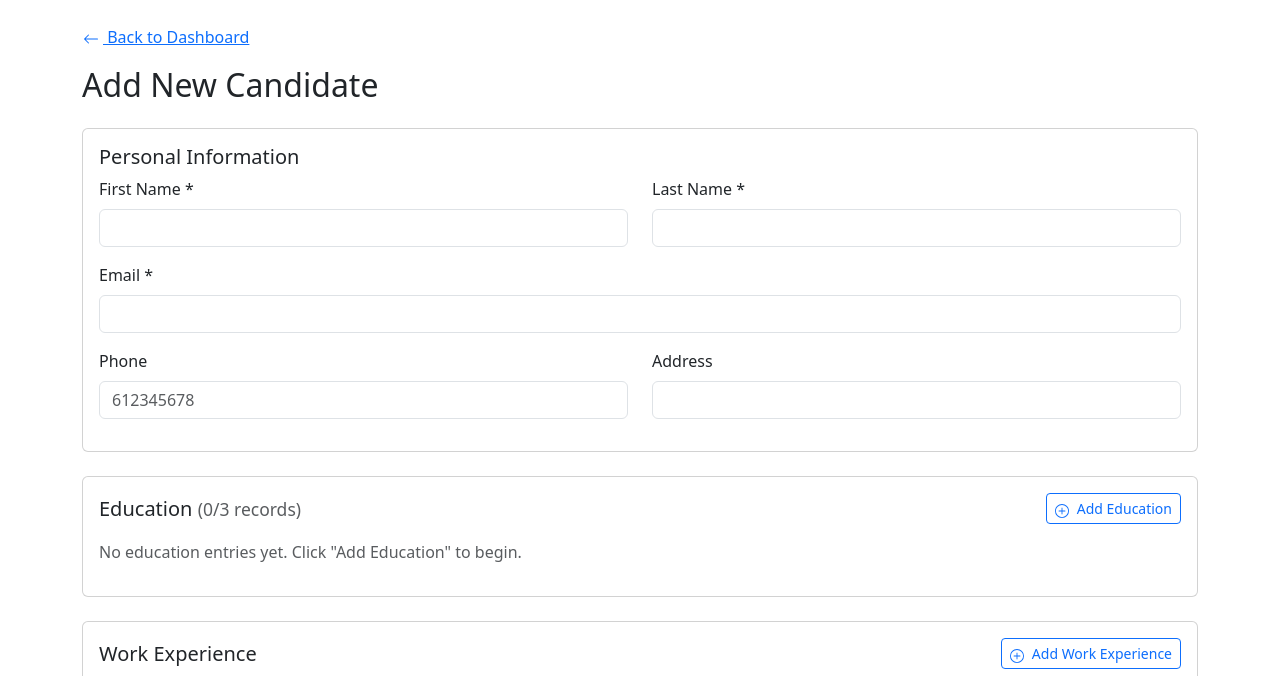
it: Add Candidate Feature › Add Candidate Form - Education Management › should disable Add Education button when 3 entries exist
Click the button with test id "add-education-btn" at (1114, 509), box [1046,493,1181,524]
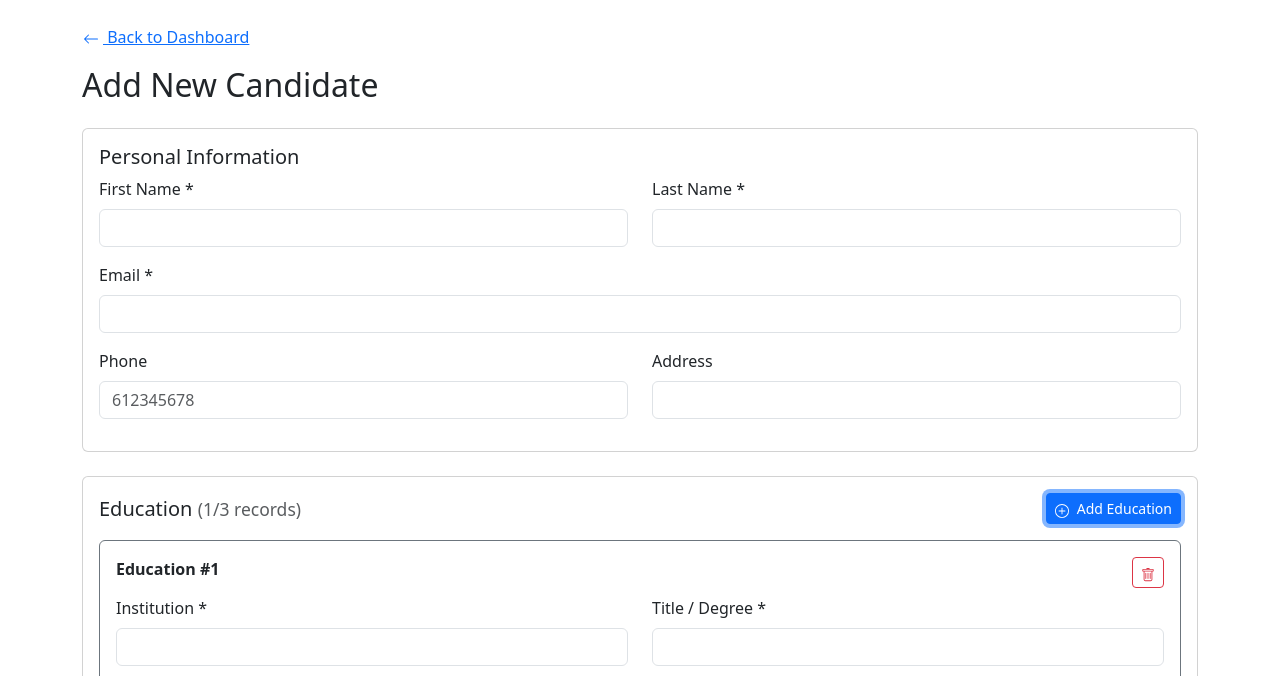
Click the button with test id "add-education-btn" at (1114, 509), box [1046,493,1181,524]
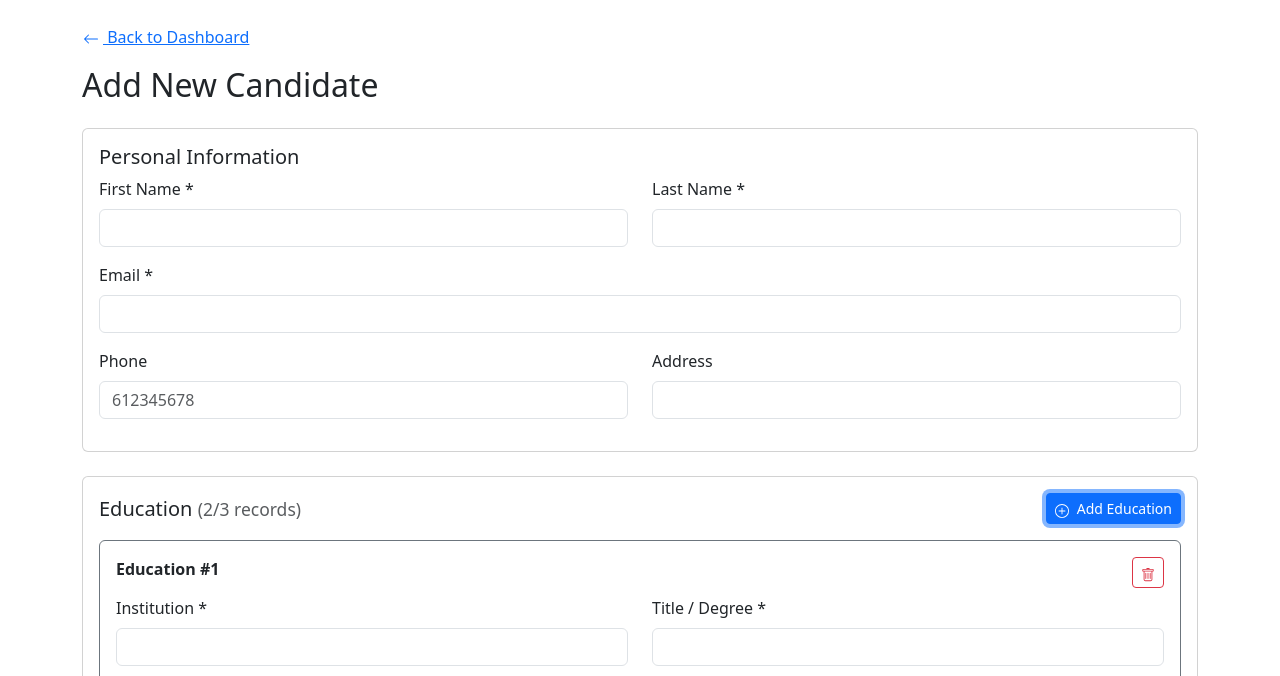
Click the button with test id "add-education-btn" at (1114, 509), box [1046,493,1181,524]
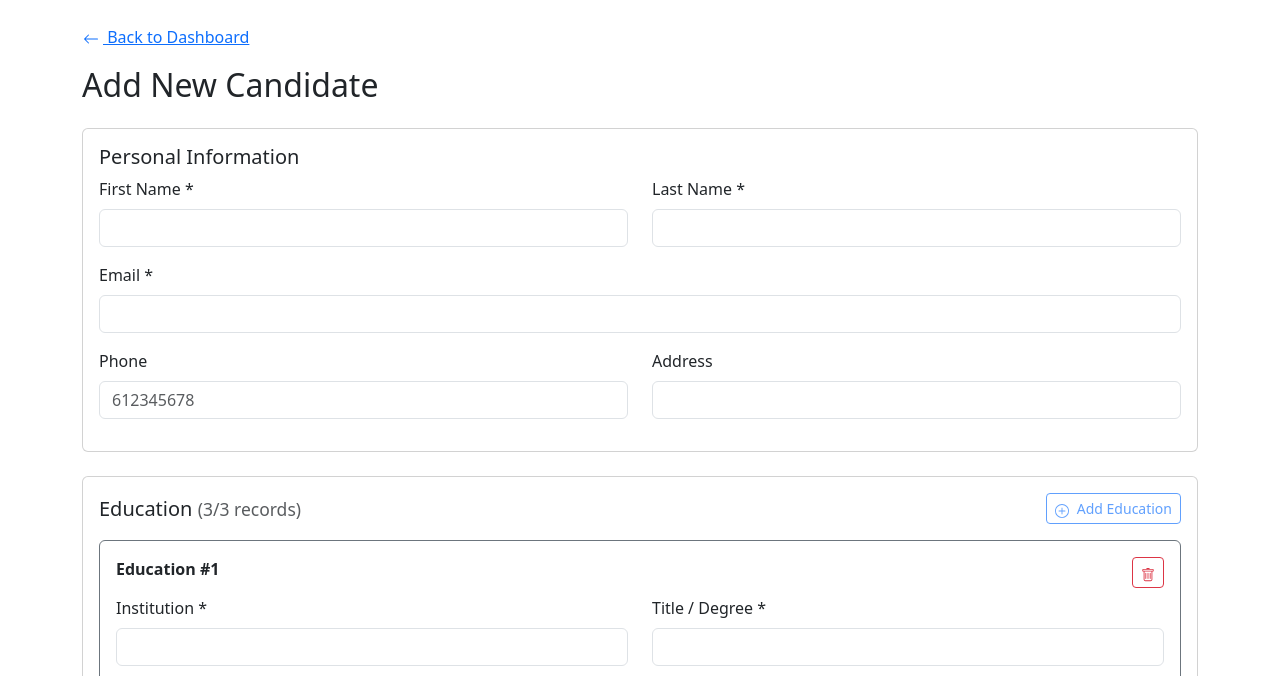
Expected: the button with test id "add-education-btn" is disabled, [1046,493,1181,524]
